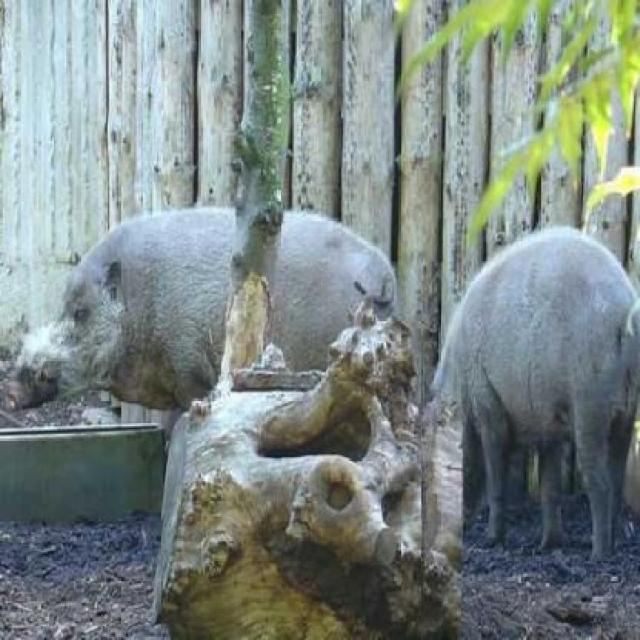pig: (5, 195, 407, 464), (368, 238, 639, 572)
